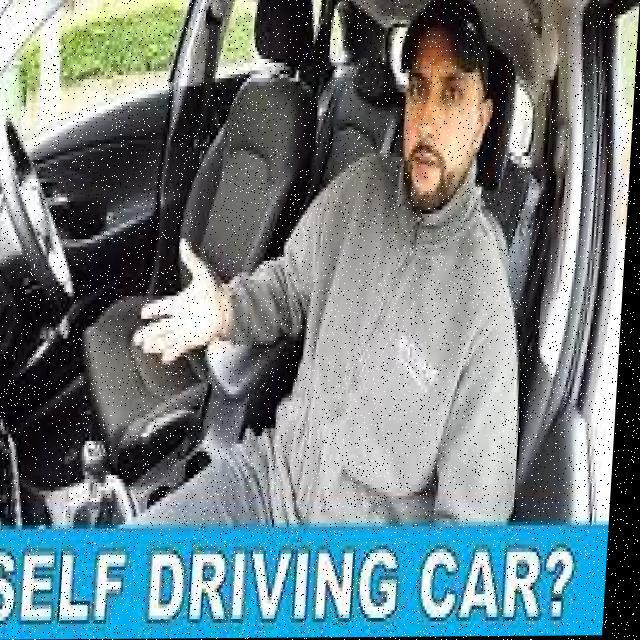noSeatbelt: (282, 119, 520, 527)
